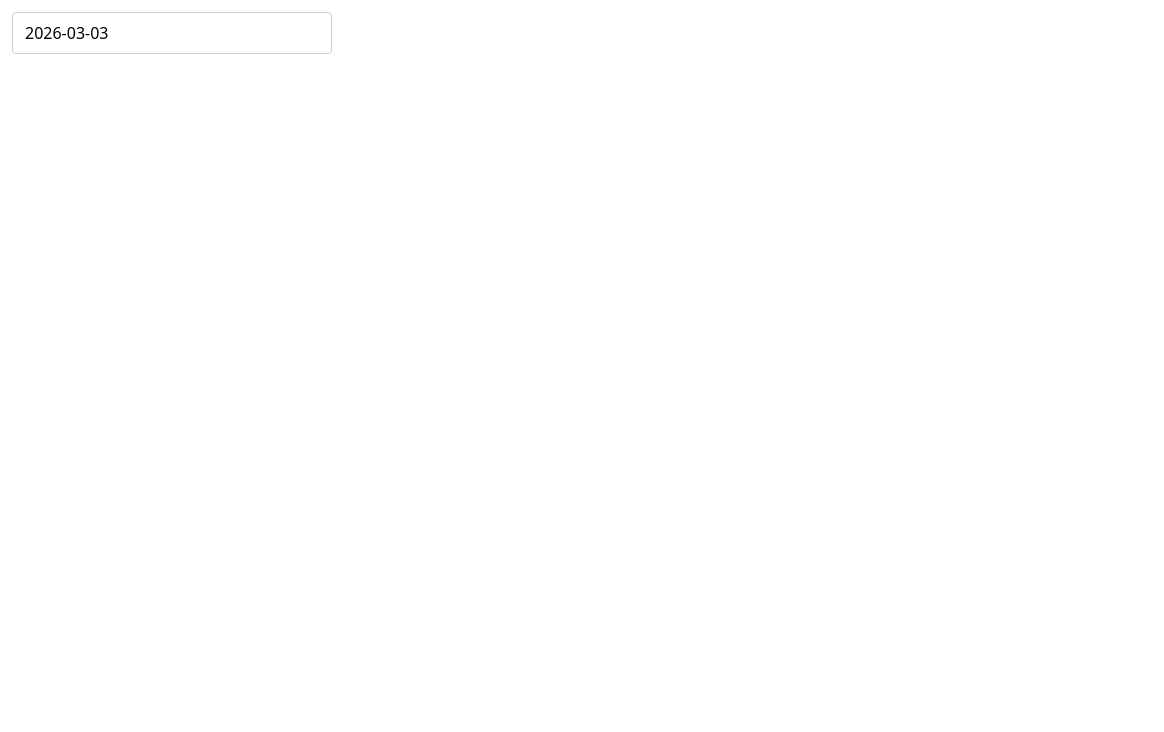
Test: DatePicker › 应该在点击外部时关闭日历
Step 1. Click the field → (172, 33), box top-left (12, 12), bottom-right (332, 54)
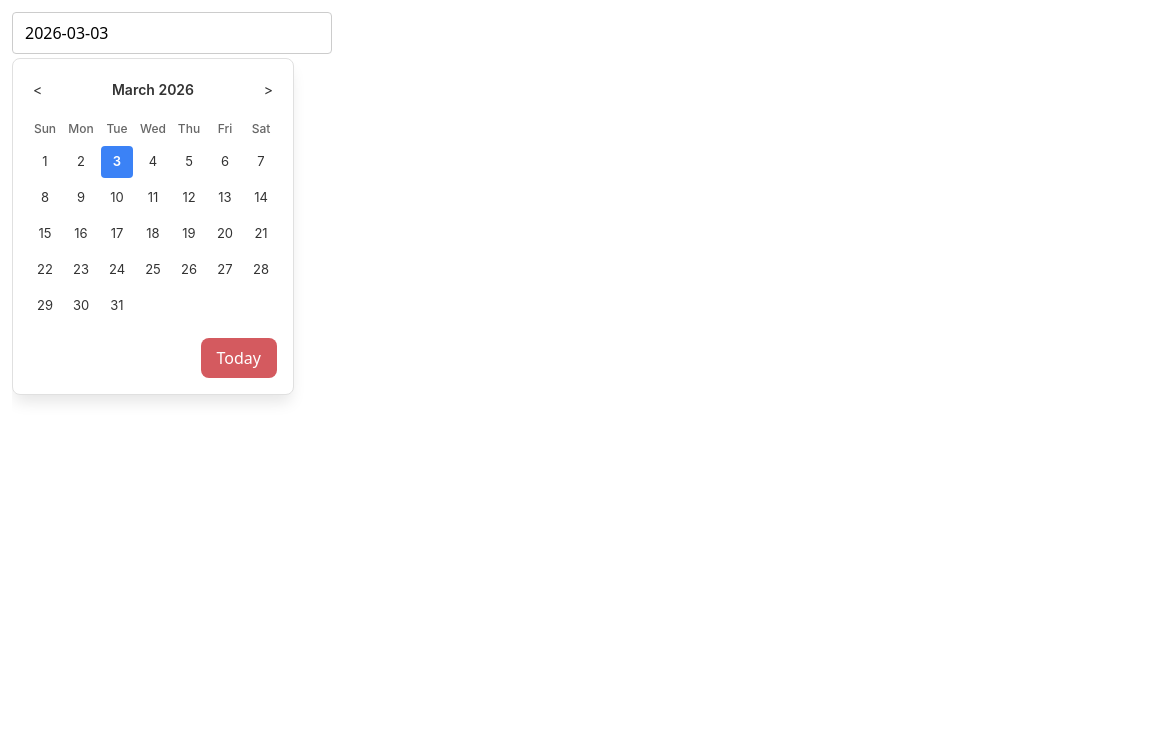
Now the text "Sun" is shown, box top-left (34, 121), bottom-right (56, 136)
Step 2. Press the mouse on the element that starts with "March 2026" → (588, 372), box top-left (12, 12), bottom-right (1163, 731)
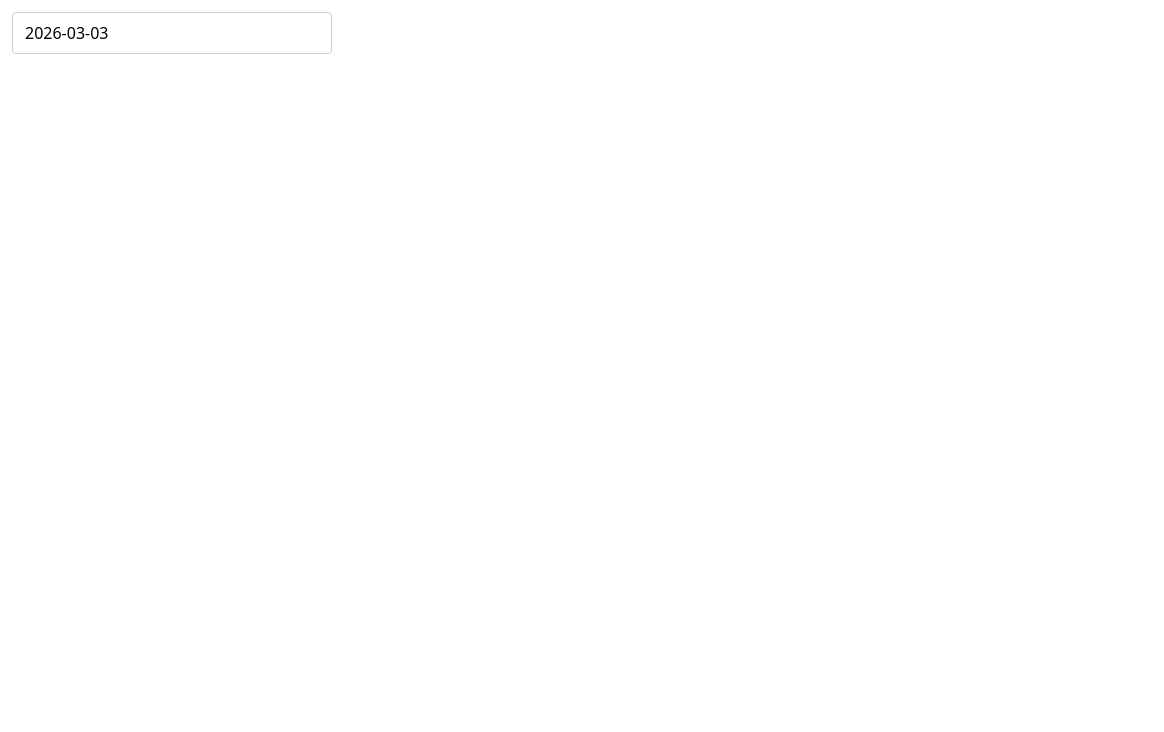
Now the text "Sun" is gone
